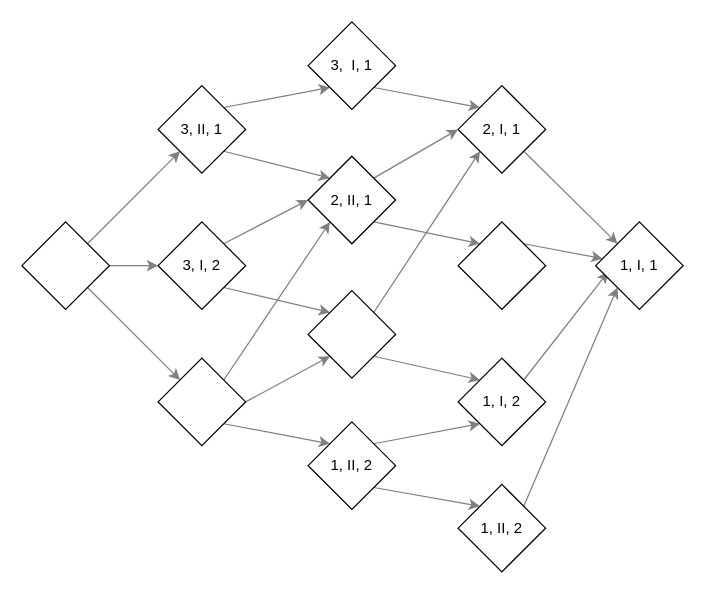
Image size: 705x594. Some labels were removed from this diagram. Each missing label, with the box of its shape:
1, II, 1: (457, 221, 546, 309)
2, I, 2: (307, 289, 396, 378)
2, II, 2: (157, 357, 246, 446)
3, II, 2: (21, 221, 109, 309)
